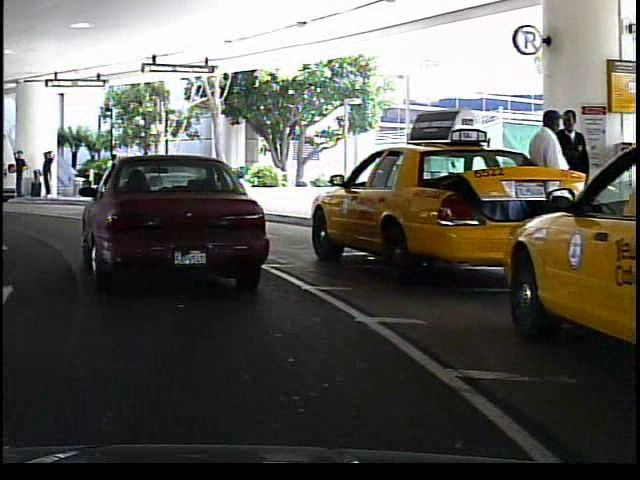person: (523, 106, 572, 257), (555, 105, 596, 250), (99, 149, 124, 195), (36, 143, 54, 201)
